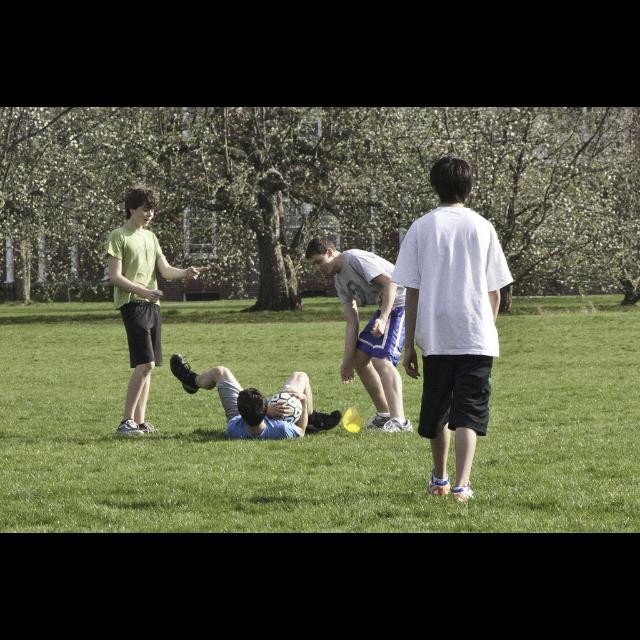Football: (269, 391, 307, 422)
